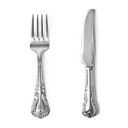Fork: (27, 8, 54, 124)
